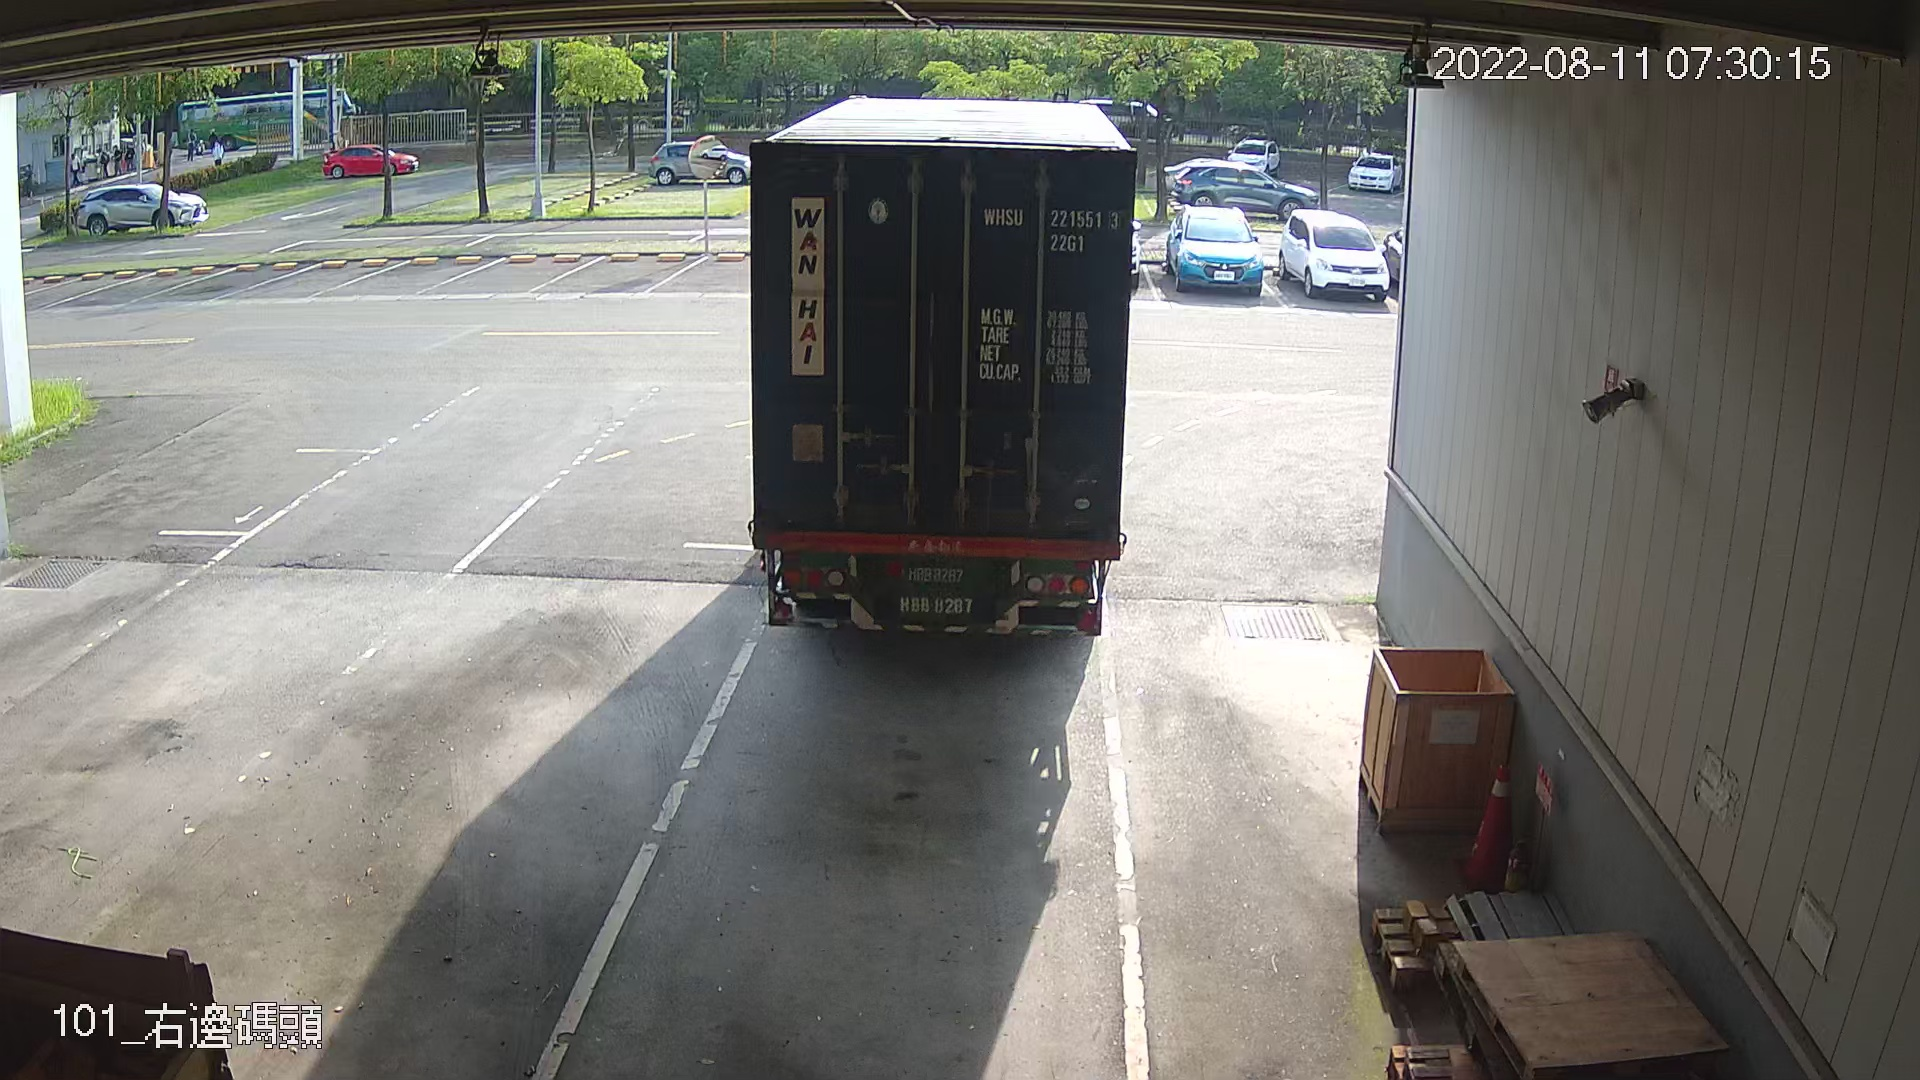container: (976, 196, 1126, 260)
